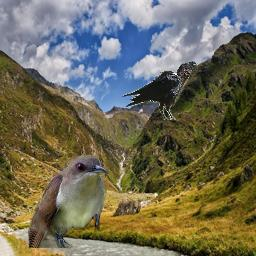Crow: (121, 61, 198, 120)
Cuckoo: (28, 155, 109, 248)
